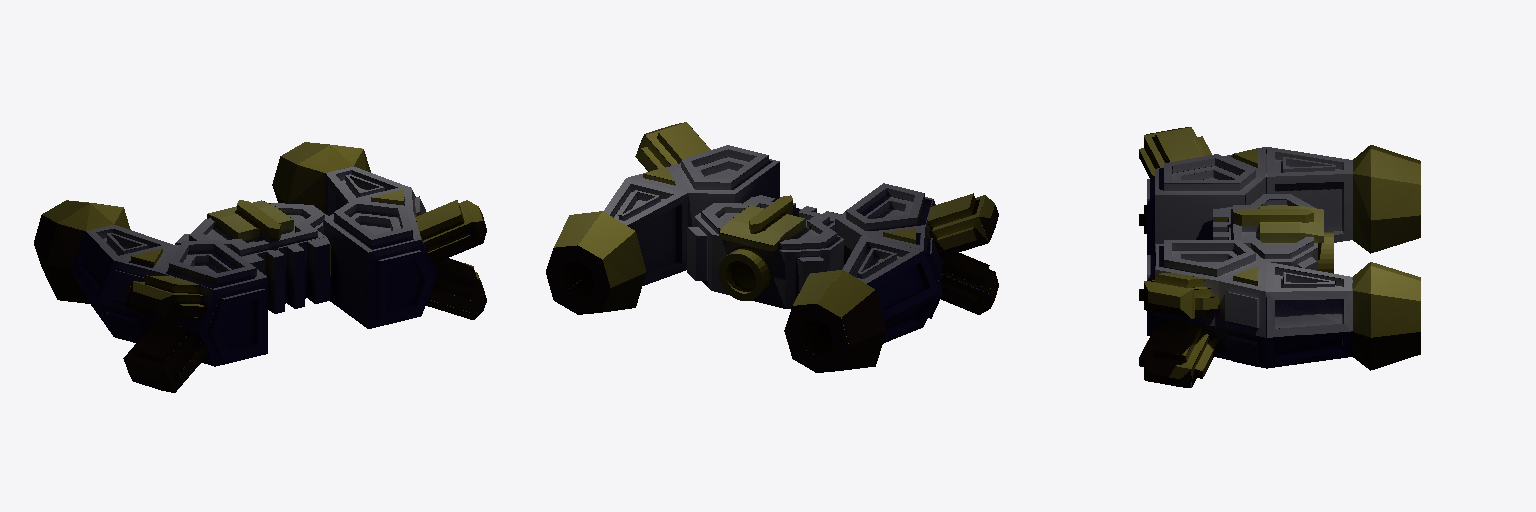
3 views of the same model, side by side, from view 1: azimuth 30°, elevation 25°; view 2: azimuth 150°, elevation 25°; view 3: azimuth 270°, elevation 25° (orthographic).
Visible parts, largest first — view 1: Spaceship.004_Spaceship-mesh.004; view 2: Spaceship.004_Spaceship-mesh.004; view 3: Spaceship.004_Spaceship-mesh.004.
Boxes of the visible parts, x1=… form: Spaceship.004_Spaceship-mesh.004: x1=34, y1=142, x2=486, y2=392; Spaceship.004_Spaceship-mesh.004: x1=546, y1=122, x2=998, y2=372; Spaceship.004_Spaceship-mesh.004: x1=1139, y1=127, x2=1420, y2=387.
Size of the model in its own units: 9.66 by 2.71 by 6.66.
Materials: 3 (1 with a texture image).